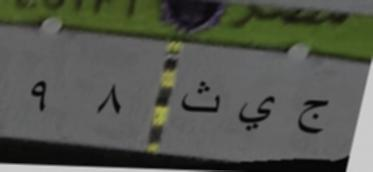8: (93, 81, 124, 123)
9: (27, 74, 52, 116)
jeem: (294, 90, 332, 140)
thaa: (179, 69, 222, 122)
yaa: (235, 85, 278, 136)
